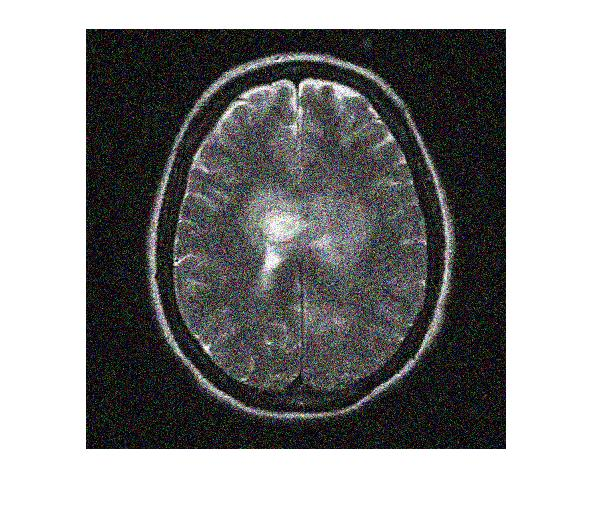Brain_Cancer: (245, 185, 312, 269)
